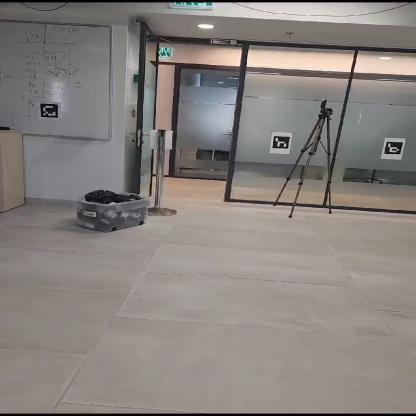open: (139, 62, 234, 203)
